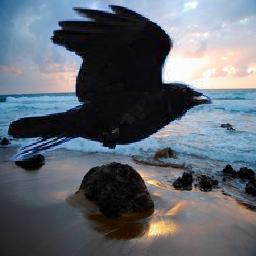Crow: (7, 3, 214, 161)
